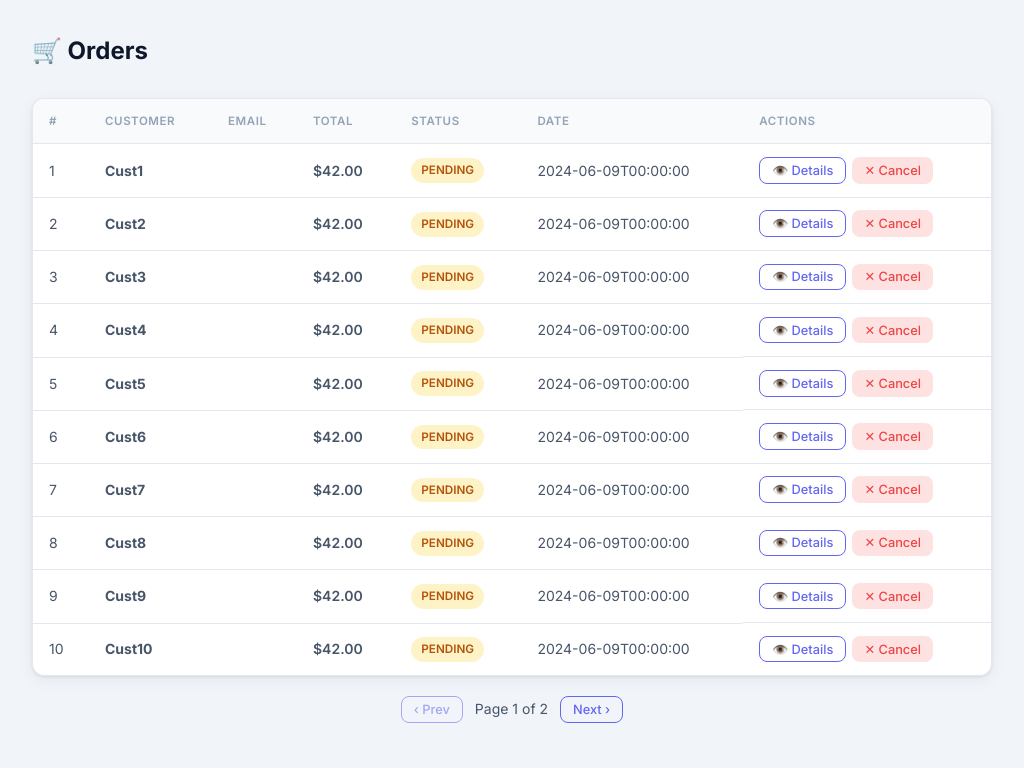
Test: OrderList › pagination shows Page X of Y and buttons work
Expected: the text "Cust1" is shown, [105, 162, 143, 178]
Expected: the text "Page 1 of 2" is shown, [475, 698, 548, 721]
Click the button with test id "page-next" at (592, 710), box [560, 696, 623, 723]
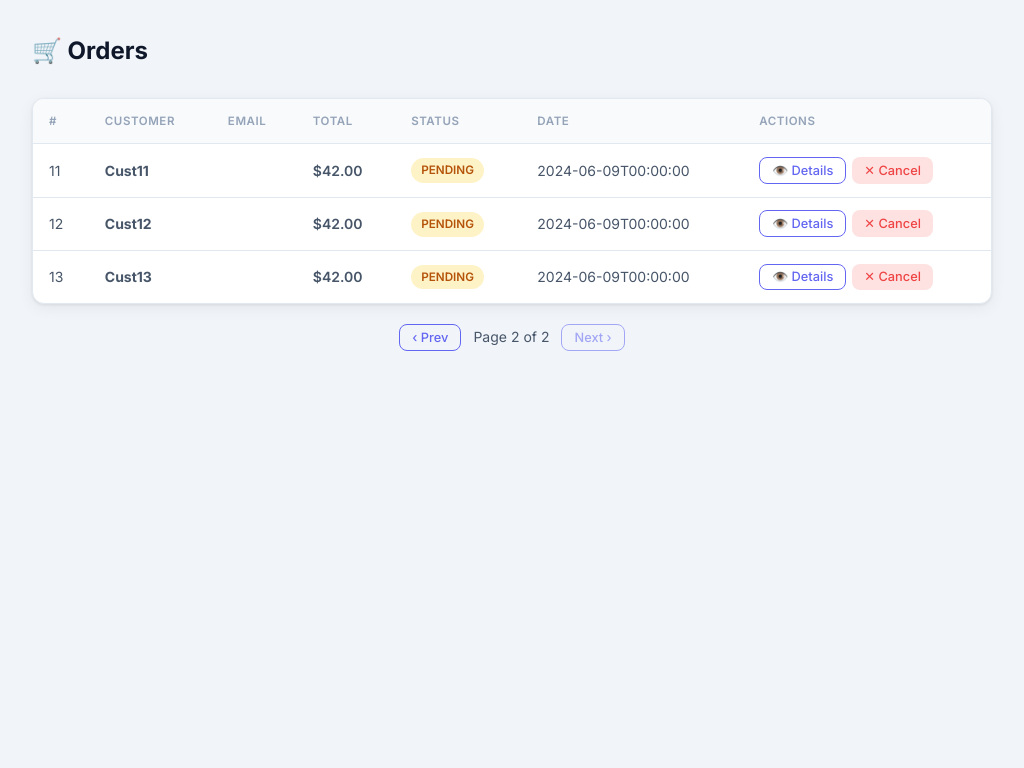
Expected: the text "Page 2 of 2" is shown, [473, 326, 549, 348]
Expected: the text "Cust11" is shown, [105, 162, 149, 178]
Click the button with test id "page-prev" at (430, 337), box [399, 324, 461, 351]
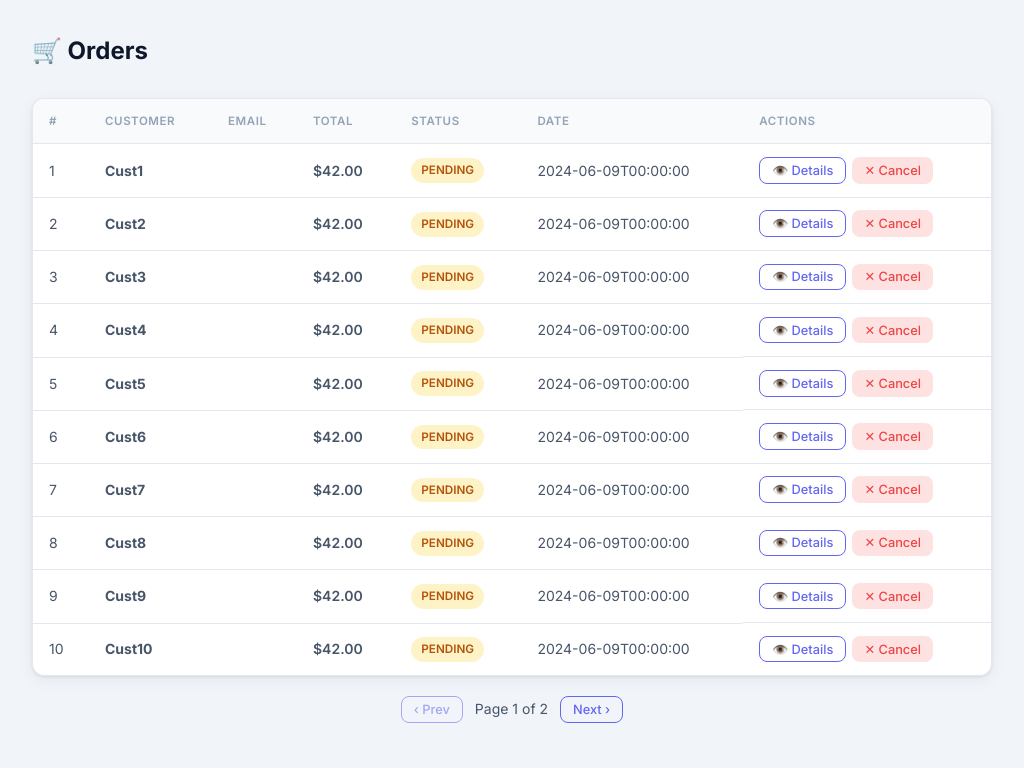
Expected: the text "Page 1 of 2" is shown, [475, 698, 548, 721]
